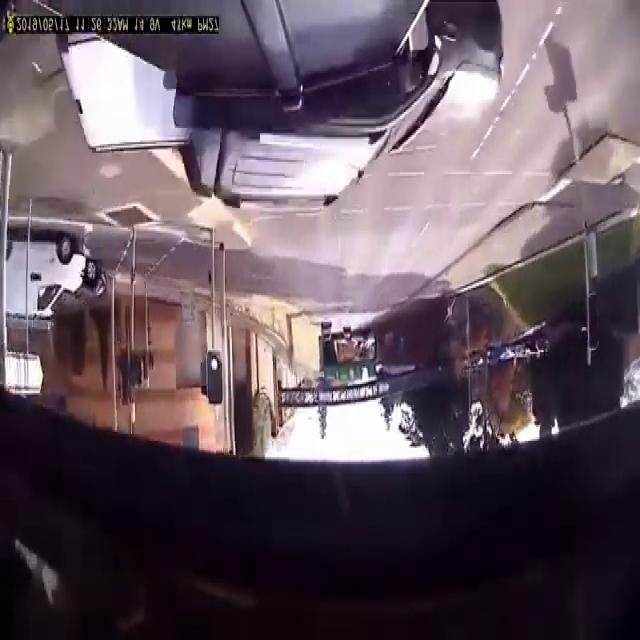moderate: (30, 0, 508, 217)
